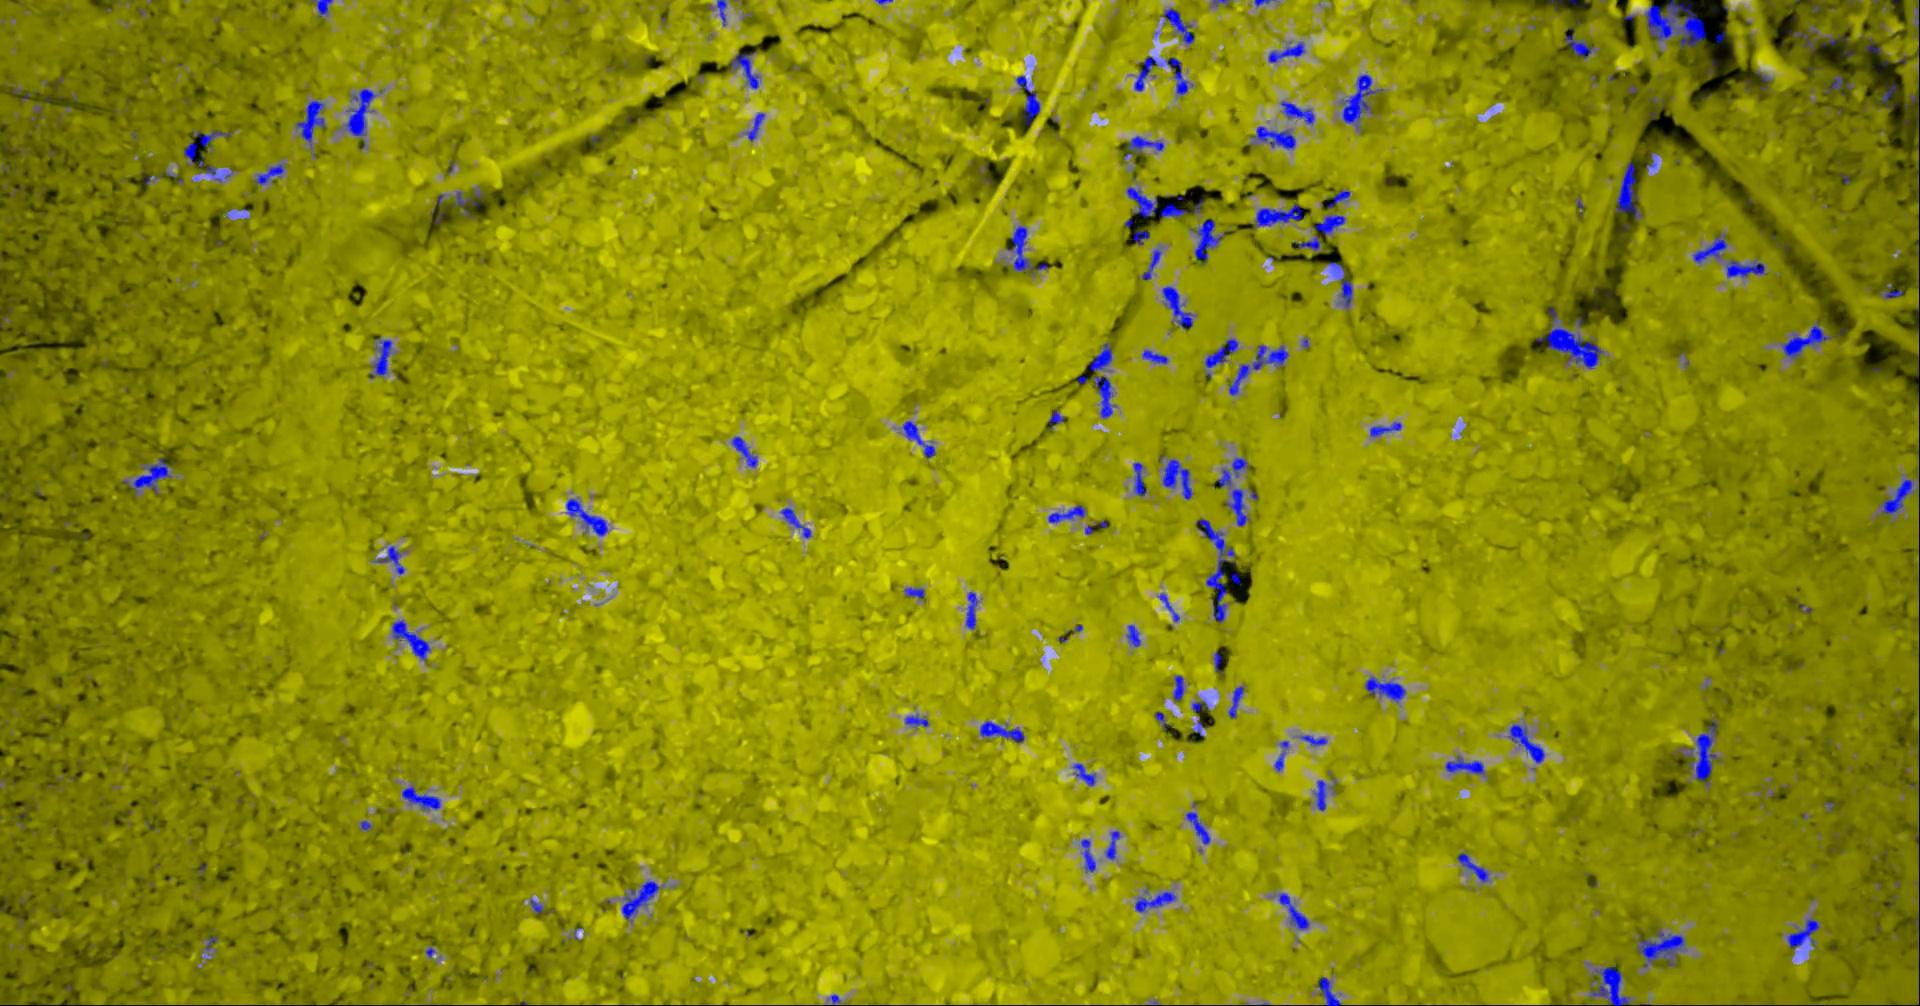ant: (1197, 518, 1237, 622), (1230, 344, 1290, 395), (1683, 720, 1719, 785), (1342, 74, 1384, 127), (1784, 319, 1840, 358), (1128, 185, 1190, 217), (347, 88, 377, 149), (1639, 930, 1688, 967), (185, 130, 232, 166), (623, 880, 664, 921), (392, 620, 432, 661), (1592, 964, 1630, 1005), (130, 457, 171, 494), (568, 498, 610, 535), (1617, 161, 1643, 218), (1191, 218, 1224, 263), (1163, 286, 1195, 329), (1510, 724, 1545, 762), (297, 100, 328, 144), (1008, 225, 1035, 273), (904, 420, 937, 457), (1017, 75, 1041, 124), (1328, 260, 1354, 307), (1163, 8, 1196, 43), (1164, 459, 1192, 499), (1882, 479, 1914, 514), (1280, 892, 1310, 929), (1366, 676, 1407, 702), (731, 51, 759, 88), (1257, 205, 1307, 225), (1694, 234, 1728, 263), (1135, 56, 1163, 91), (1253, 126, 1297, 149), (1167, 57, 1194, 94), (1788, 917, 1820, 948), (1206, 338, 1239, 367), (1095, 375, 1117, 417), (982, 720, 1025, 742), (1566, 27, 1595, 58), (1218, 457, 1250, 486), (782, 507, 811, 539), (1458, 852, 1490, 882), (1225, 488, 1250, 526), (403, 786, 441, 810), (376, 545, 406, 574), (1137, 890, 1177, 912), (1788, 25, 1818, 53), (372, 337, 392, 379), (453, 191, 485, 217), (733, 436, 759, 467), (1126, 135, 1164, 156), (1283, 100, 1316, 124), (1187, 810, 1211, 843), (1269, 41, 1305, 62), (1318, 976, 1343, 1005), (1727, 259, 1768, 277), (1049, 504, 1087, 522), (1448, 756, 1486, 774), (257, 163, 286, 185), (1090, 342, 1112, 371), (1316, 213, 1346, 235), (1159, 592, 1181, 621), (1143, 249, 1162, 279), (747, 112, 766, 141), (1826, 72, 1853, 93), (1229, 686, 1246, 718), (1295, 234, 1322, 253), (1082, 840, 1097, 873), (1074, 763, 1097, 785), (1371, 420, 1403, 436), (1275, 741, 1290, 771), (1134, 462, 1148, 495), (145, 171, 184, 183), (1106, 829, 1121, 859), (968, 591, 979, 629), (1328, 191, 1352, 208), (1882, 81, 1897, 107), (207, 165, 232, 180), (1316, 780, 1328, 810), (1143, 349, 1170, 363), (1156, 711, 1175, 729), (1128, 624, 1142, 647), (1884, 282, 1903, 298), (1756, 70, 1771, 90), (1050, 409, 1065, 429), (905, 714, 930, 727), (1302, 735, 1330, 746), (1175, 674, 1185, 701), (717, 0, 728, 25), (317, 0, 333, 17), (1867, 38, 1883, 53), (905, 587, 926, 598), (1215, 652, 1225, 674), (1134, 230, 1150, 244), (1192, 700, 1210, 713), (531, 899, 545, 915)
